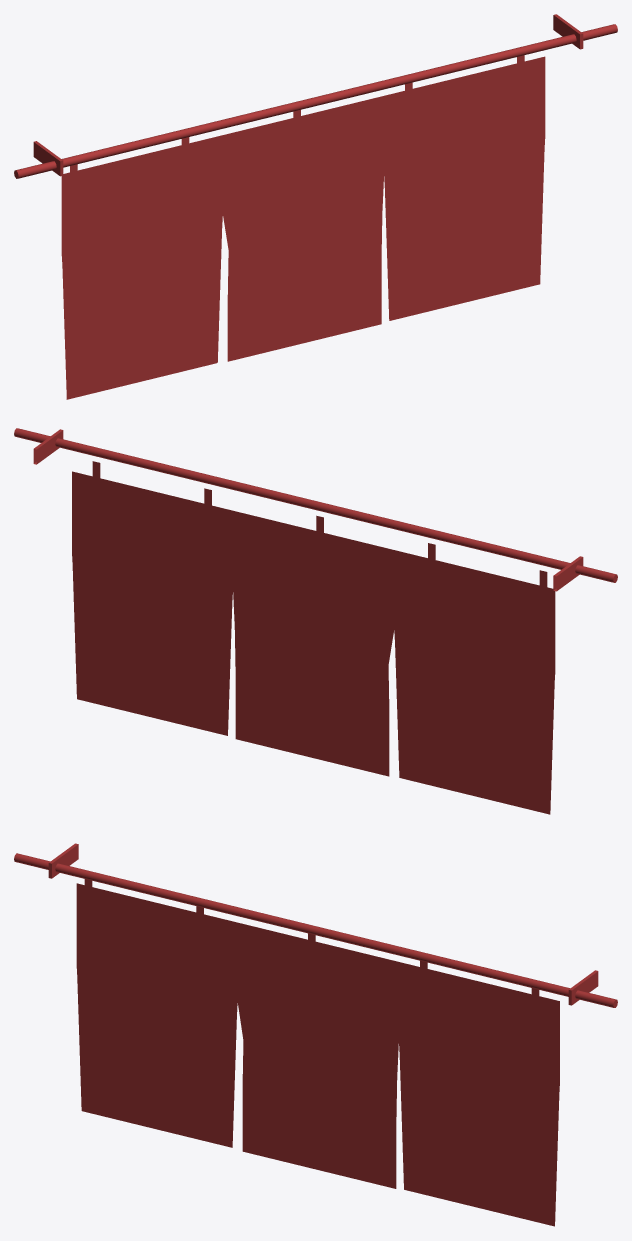
The model's file is SM_storefront_cloth_04.fbx.
The picture shows the model from 3 angles, top to bottom: view 1: azimuth 30°, elevation 25°; view 2: azimuth 150°, elevation 25°; view 3: azimuth 330°, elevation 25°; orthographic projection.
Parts seen in each view (by area): view 1: Plane009; view 2: Plane009; view 3: Plane009.
Boxes of the visible parts, box(x1,y1,x2,y2) form: Plane009: box(14, 14, 617, 399); Plane009: box(14, 428, 617, 814); Plane009: box(14, 843, 617, 1226).
Size of the model in its own units: 183 by 14.09 by 74.15.
